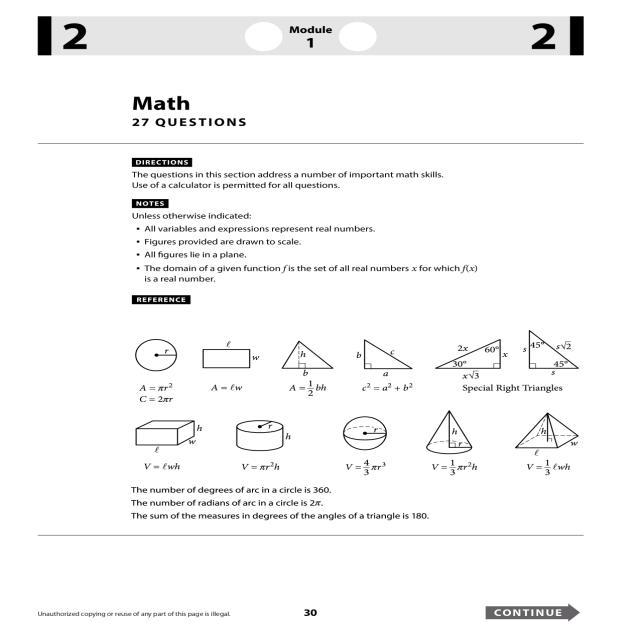Instruction: (41, 144, 588, 533)
Question_Paper_Area: (41, 80, 588, 534)
